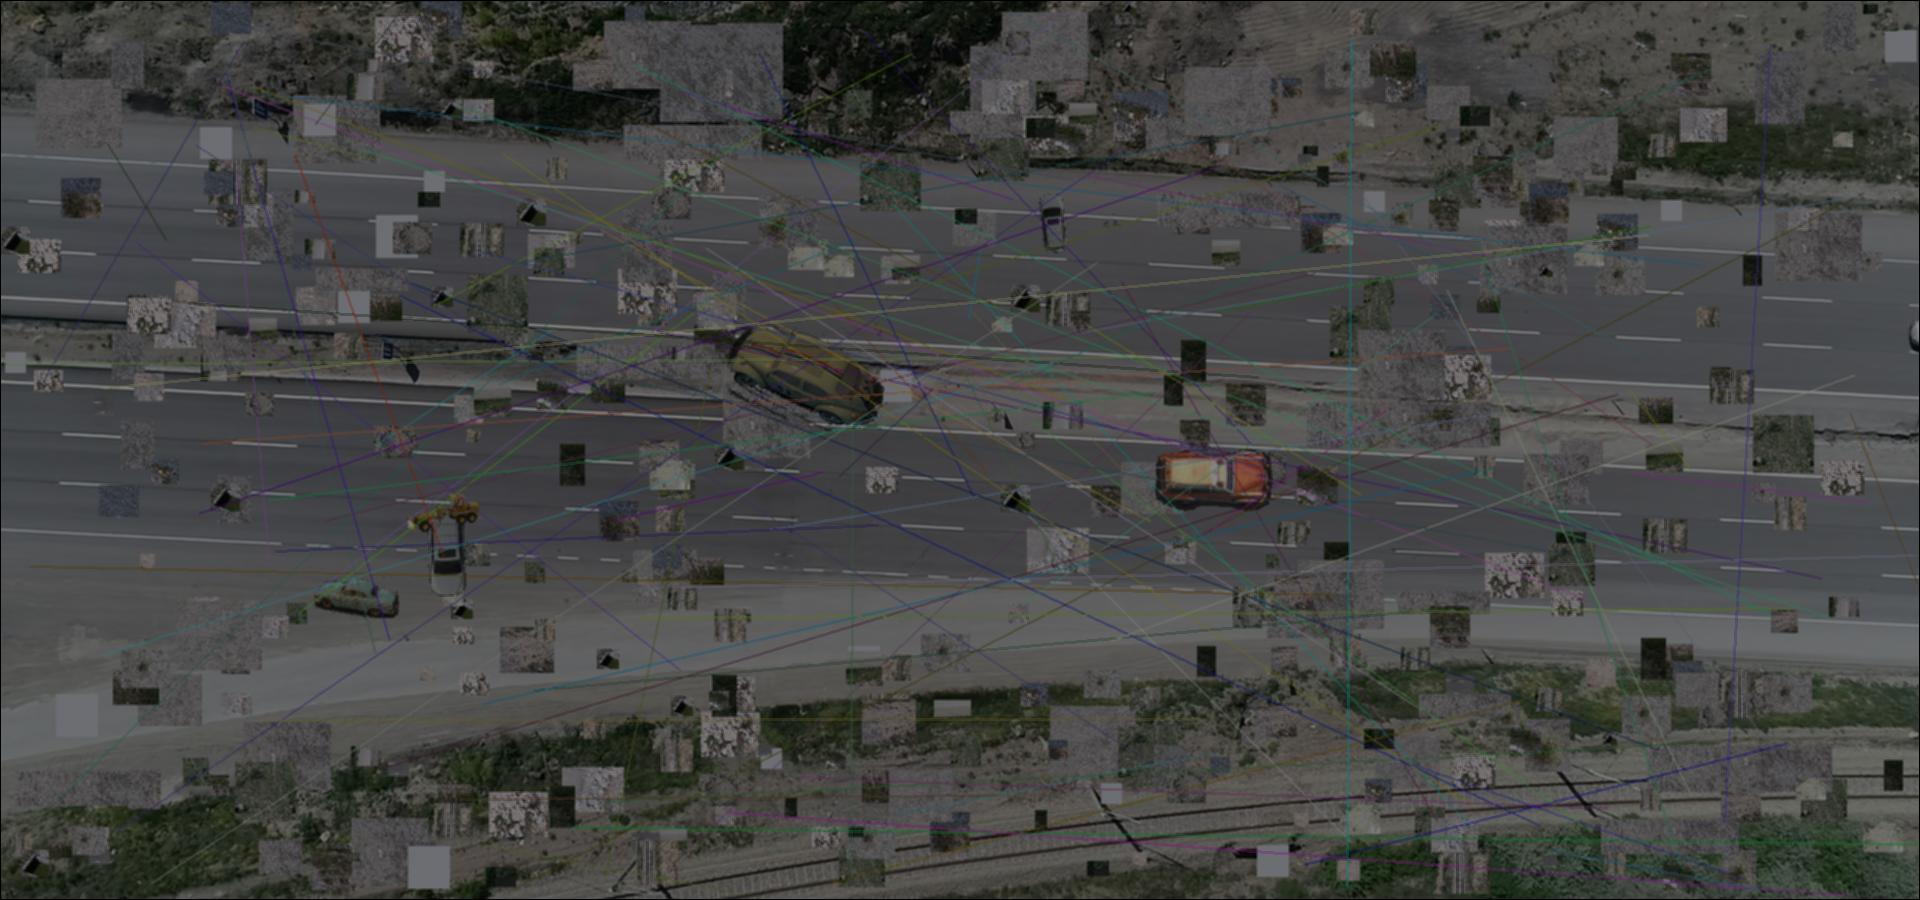arac: (729, 324, 884, 431), (1153, 448, 1280, 511), (424, 508, 469, 596), (313, 576, 399, 618), (405, 493, 482, 533), (1036, 193, 1069, 253)
